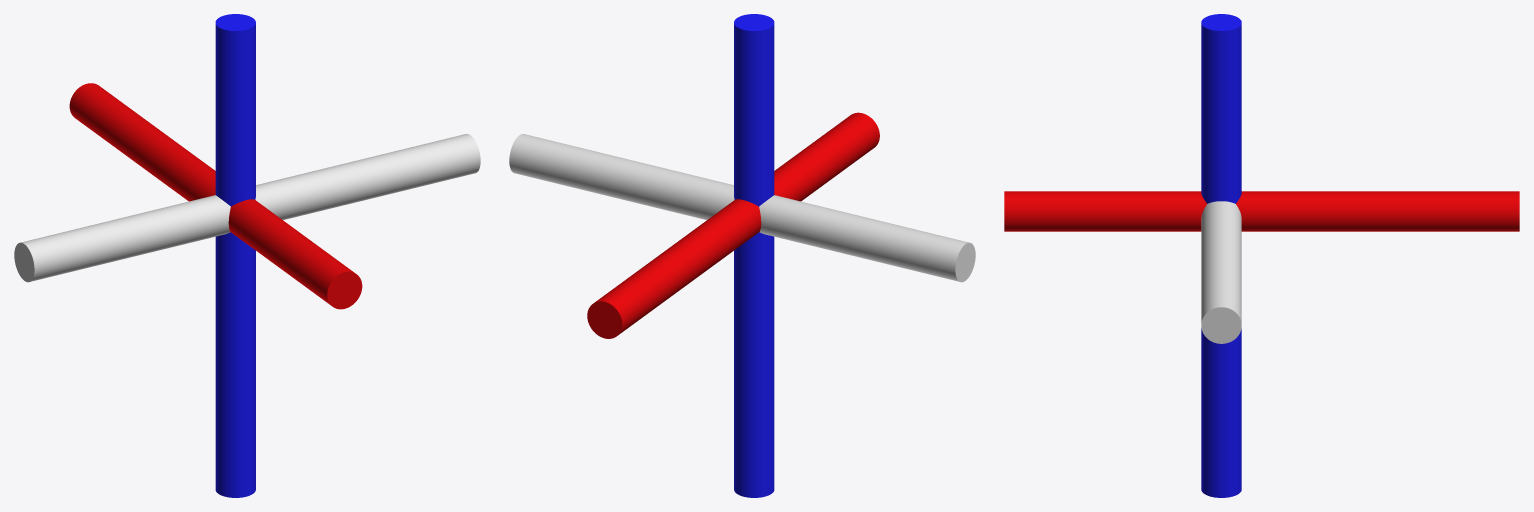
File: testgizmo2.fbx
The picture shows the model from 3 angles, left to right: view 1: azimuth 30°, elevation 25°; view 2: azimuth 150°, elevation 25°; view 3: azimuth 270°, elevation 25°; orthographic projection.
Parts seen in each view (by area): view 1: mesh_id43, mesh_id30, mesh_id49; view 2: mesh_id43, mesh_id30, mesh_id49; view 3: mesh_id49, mesh_id43, mesh_id30.
Part boxes in pixels (x1=…): mesh_id43: x1=215, y1=14, x2=255, y2=497; mesh_id30: x1=14, y1=134, x2=480, y2=282; mesh_id49: x1=69, y1=83, x2=362, y2=309; mesh_id43: x1=734, y1=14, x2=774, y2=497; mesh_id30: x1=509, y1=134, x2=975, y2=282; mesh_id49: x1=587, y1=112, x2=879, y2=338; mesh_id49: x1=1004, y1=191, x2=1519, y2=231; mesh_id43: x1=1201, y1=14, x2=1241, y2=497; mesh_id30: x1=1201, y1=201, x2=1241, y2=343.
Size of the model in its own units: 27.56 by 27.56 by 27.56.
